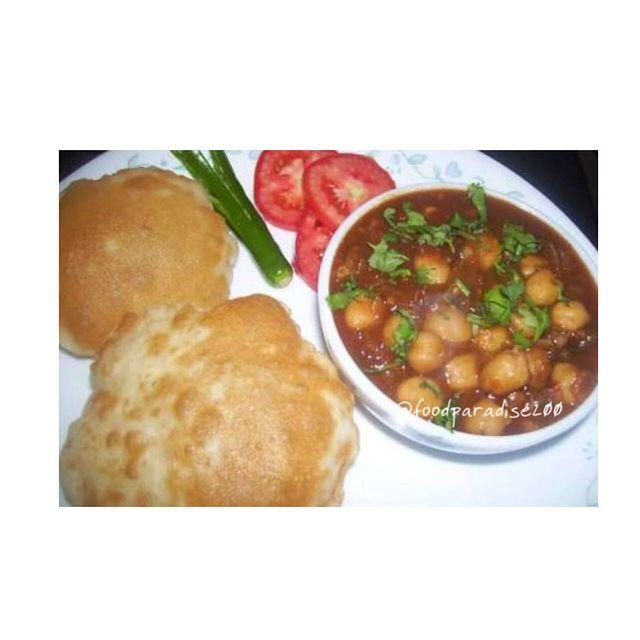Chole: (352, 214, 596, 403)
